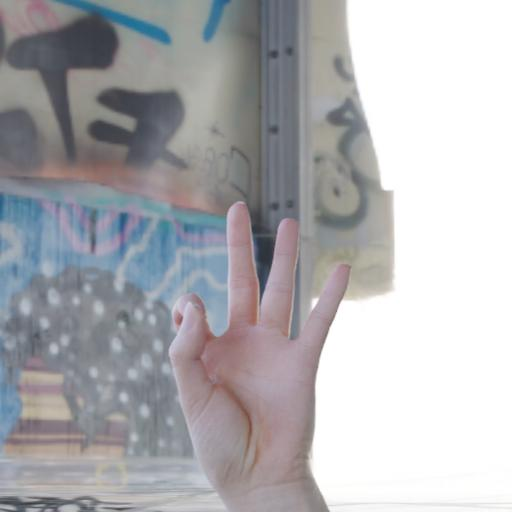F: (168, 197, 354, 478)
